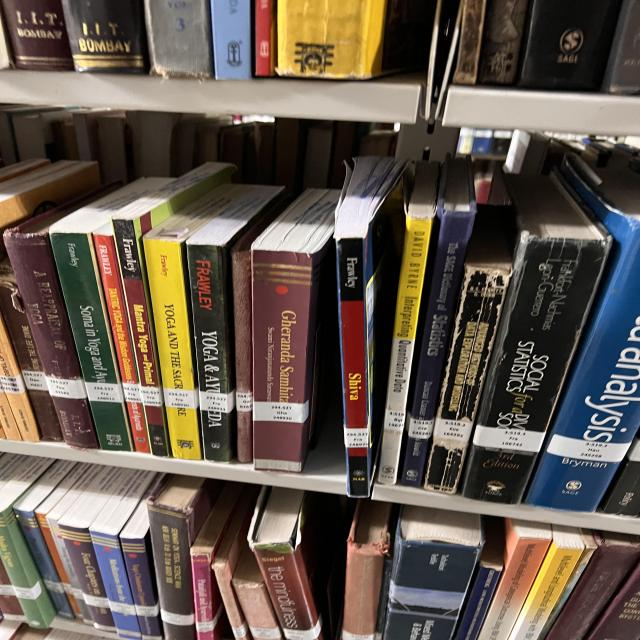Book: (462, 175, 612, 504), (527, 145, 640, 511), (112, 162, 232, 456), (48, 178, 168, 451), (143, 184, 252, 460), (187, 185, 283, 461), (400, 155, 477, 486), (333, 156, 407, 498), (252, 189, 340, 472), (425, 215, 512, 494), (3, 200, 98, 449), (378, 160, 438, 485), (232, 196, 290, 462), (383, 506, 483, 640), (93, 224, 150, 452), (277, 0, 437, 80), (147, 475, 222, 640), (58, 466, 130, 631), (247, 488, 323, 640), (0, 259, 63, 441), (90, 470, 155, 640), (545, 531, 640, 640), (0, 458, 57, 629), (13, 461, 73, 619), (518, 0, 622, 91), (477, 519, 552, 640), (47, 464, 103, 625), (508, 525, 585, 640), (190, 482, 243, 640), (212, 485, 258, 640), (342, 499, 392, 640), (453, 516, 505, 640), (62, 0, 148, 74), (120, 490, 162, 640), (35, 505, 82, 620), (145, 0, 213, 79), (2, 0, 73, 71), (0, 315, 40, 441), (232, 546, 282, 640), (477, 0, 528, 85), (587, 565, 640, 640), (602, 0, 640, 95), (210, 0, 252, 79), (452, 0, 487, 85), (0, 560, 27, 622), (255, 0, 277, 76)
Label: (547, 434, 630, 462), (473, 425, 545, 452), (253, 401, 308, 422), (45, 376, 87, 399), (433, 418, 473, 442), (85, 381, 125, 402), (163, 388, 198, 409), (200, 391, 235, 412), (195, 608, 223, 632), (160, 609, 195, 626), (12, 581, 43, 600), (22, 370, 48, 391), (408, 418, 433, 439), (343, 428, 368, 448), (0, 375, 25, 394), (140, 386, 163, 406), (83, 592, 110, 609), (108, 600, 137, 615), (385, 410, 405, 431), (122, 382, 142, 402), (250, 628, 282, 640), (235, 392, 253, 411), (135, 605, 160, 618), (232, 622, 248, 638), (45, 580, 63, 592), (0, 584, 15, 598), (72, 588, 83, 602)
